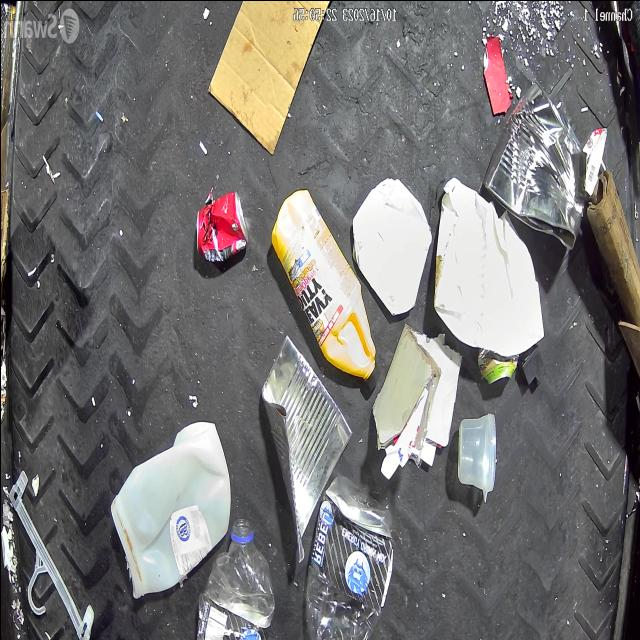can: (482, 80, 588, 252), (191, 187, 244, 263), (476, 352, 514, 384)
milk_jug: (109, 421, 230, 599)
non_white_jug: (274, 184, 379, 388)
plastic_bottle: (303, 472, 392, 640), (194, 517, 273, 640)
